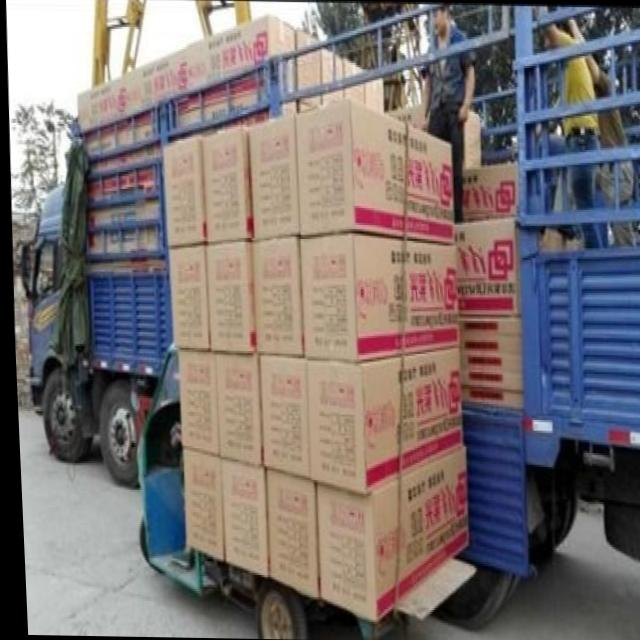box: (314, 446, 463, 621), (301, 346, 459, 495), (296, 99, 451, 243), (296, 235, 453, 361), (185, 14, 295, 111), (261, 470, 313, 597), (249, 236, 300, 362), (246, 115, 295, 242), (451, 221, 517, 315), (255, 355, 304, 477), (200, 126, 249, 243), (211, 350, 259, 466), (218, 457, 263, 575), (204, 242, 251, 353), (123, 49, 184, 129), (160, 141, 202, 249), (174, 347, 216, 454), (180, 450, 218, 561), (167, 243, 206, 347), (457, 161, 515, 222), (78, 78, 127, 145), (294, 29, 319, 109), (455, 348, 519, 374), (457, 388, 520, 411), (456, 369, 518, 391), (455, 316, 520, 336), (455, 335, 520, 355)
